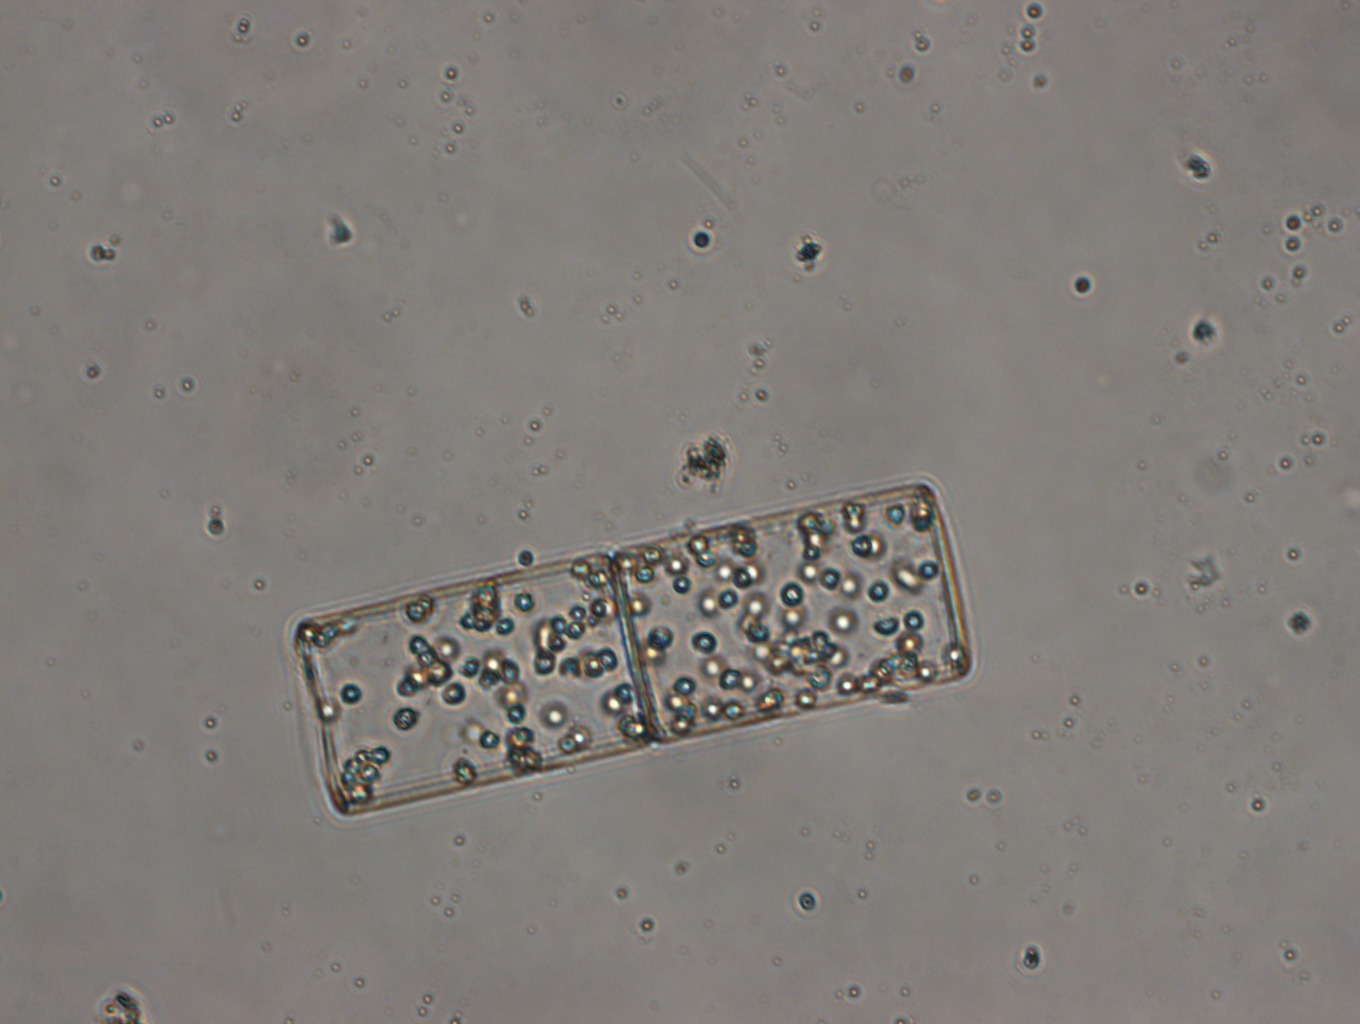guinardia flaccida: (289, 480, 980, 821)
